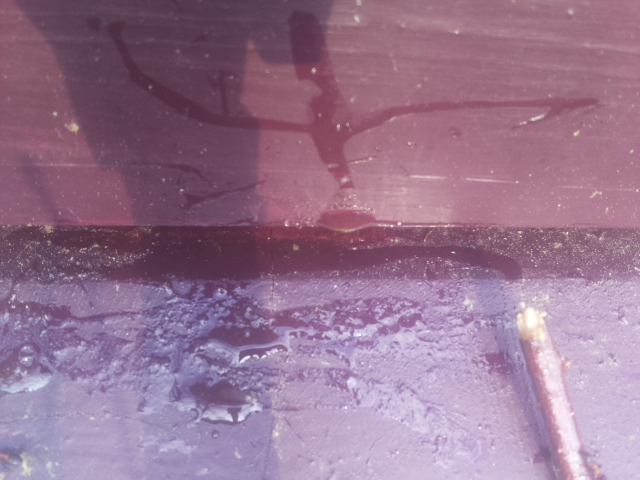ant: (0, 341, 48, 390)
